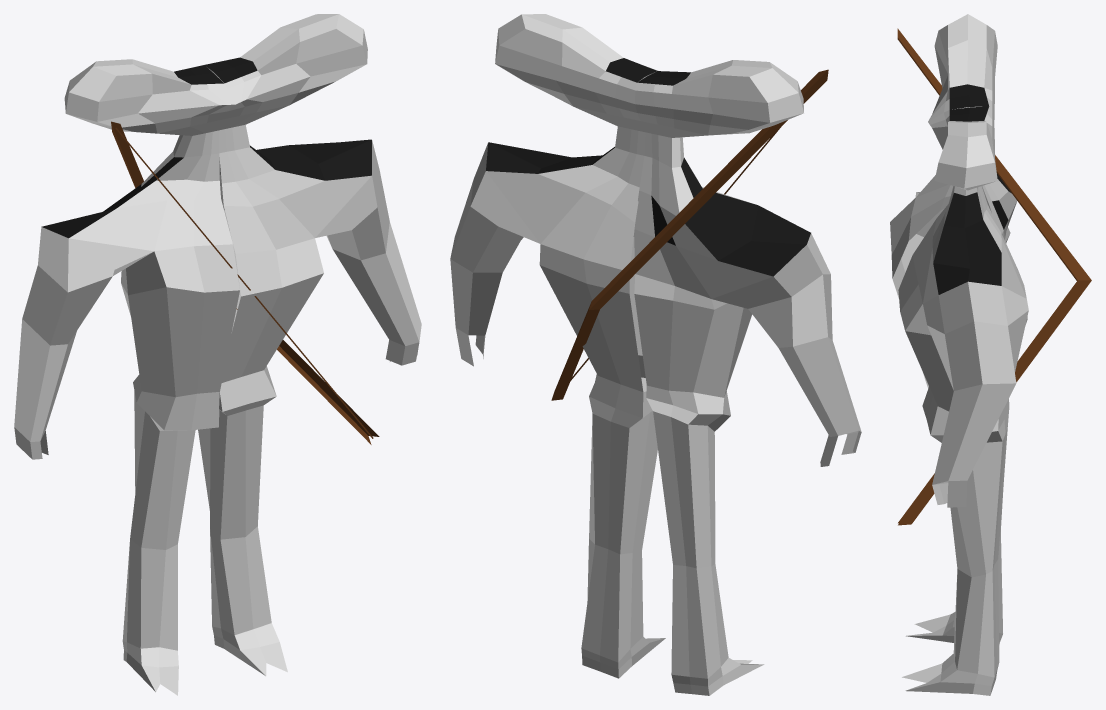
The model's file is Archer.obj.
The picture shows the model from 3 angles, left to right: view 1: azimuth 30°, elevation 25°; view 2: azimuth 150°, elevation 25°; view 3: azimuth 270°, elevation 25°; orthographic projection. The views are drawn at different scales.
Parts seen in each view (by area): view 1: Cube, Plane.001_Bow; view 2: Cube, Plane.001_Bow; view 3: Cube, Plane.001_Bow.
Part boxes in pixels (bbox=[...]): Cube: bbox=[14, 14, 421, 695]; Plane.001_Bow: bbox=[111, 121, 379, 444]; Cube: bbox=[450, 14, 861, 695]; Plane.001_Bow: bbox=[551, 69, 828, 400]; Cube: bbox=[890, 14, 1028, 695]; Plane.001_Bow: bbox=[897, 28, 1091, 525].
Size of the model in its own units: 1.07 by 1.59 by 0.4845.
